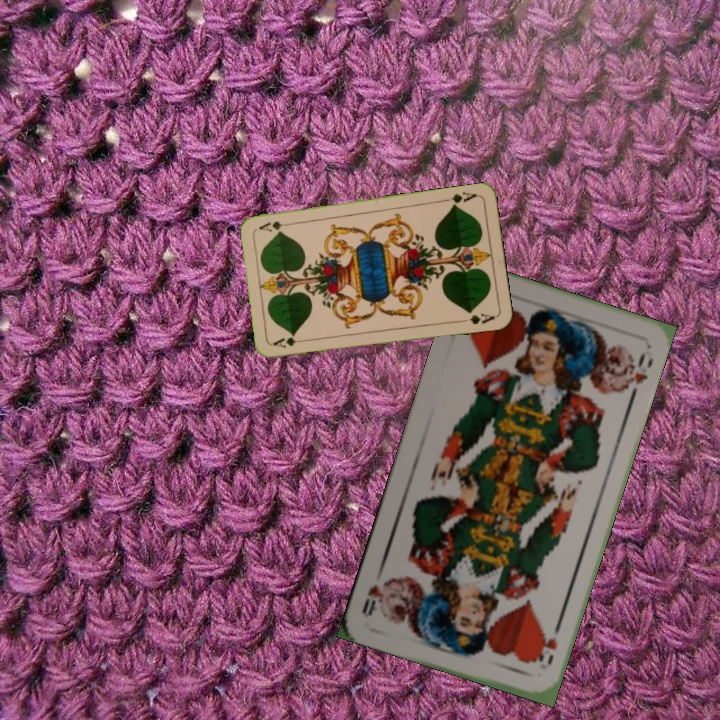GA: (440, 188, 480, 210), (269, 333, 310, 351)
HO: (531, 619, 564, 668)
